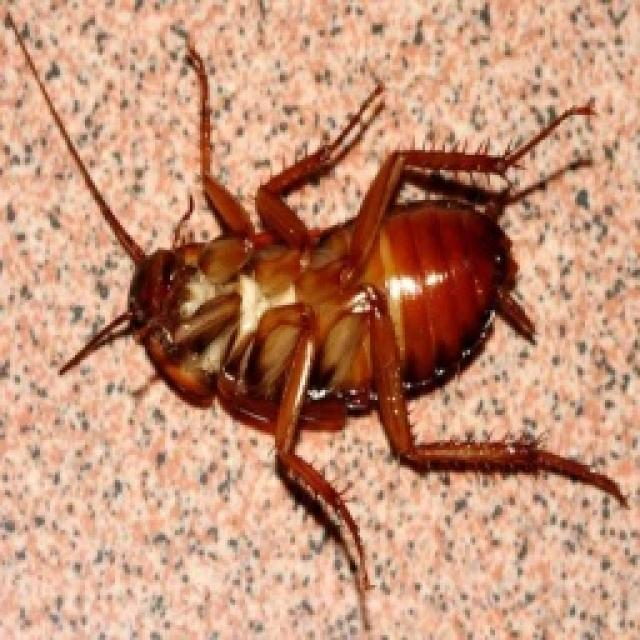cockroach: (5, 15, 631, 618)
